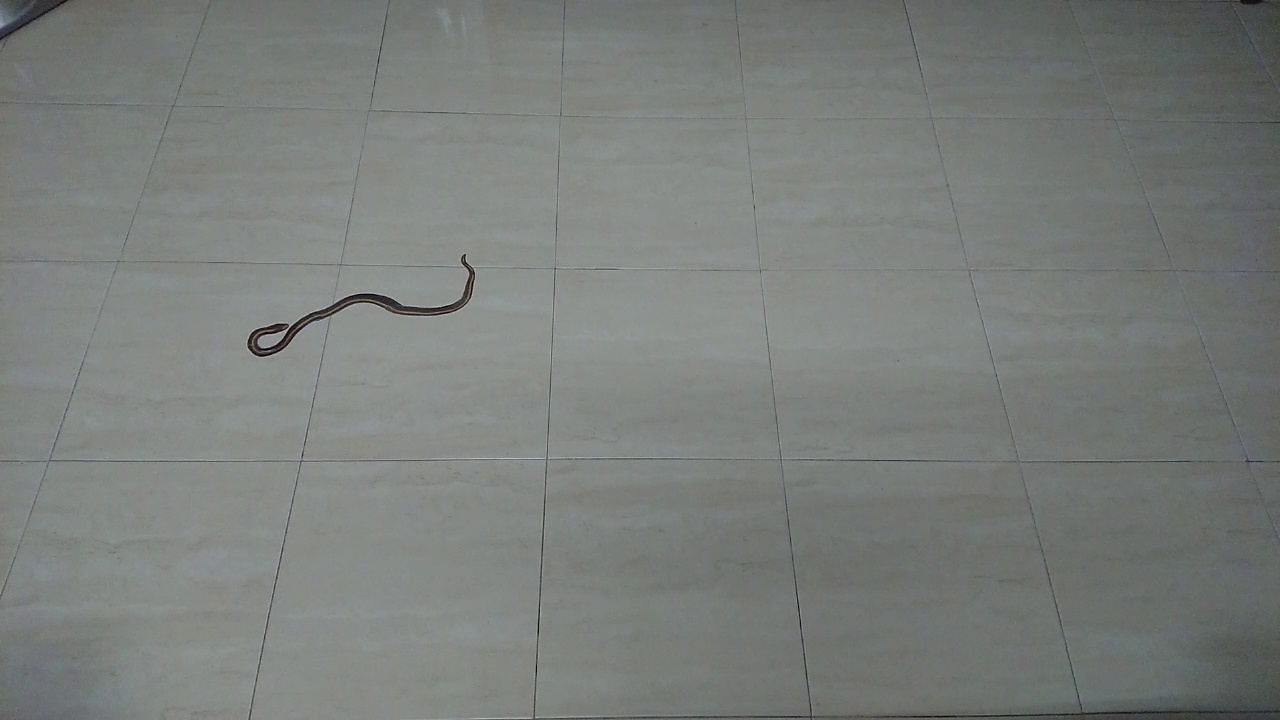snake: (227, 236, 487, 370)
